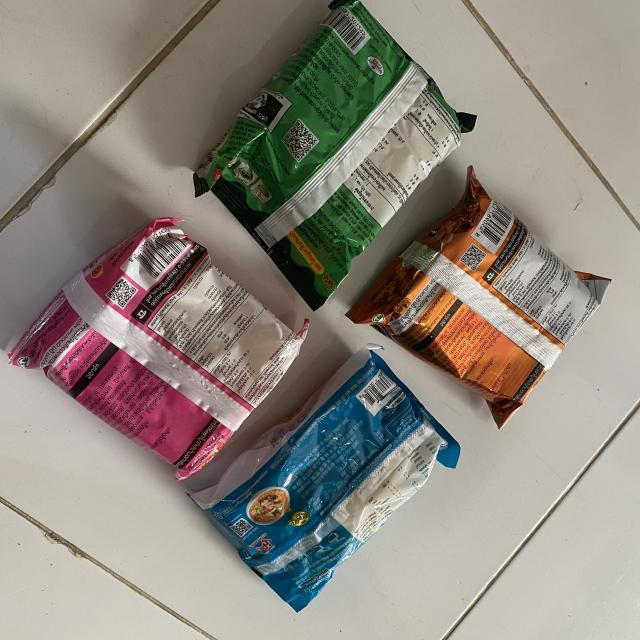plastik: (194, 0, 475, 310), (8, 218, 308, 481), (190, 344, 460, 612), (347, 167, 610, 428)
